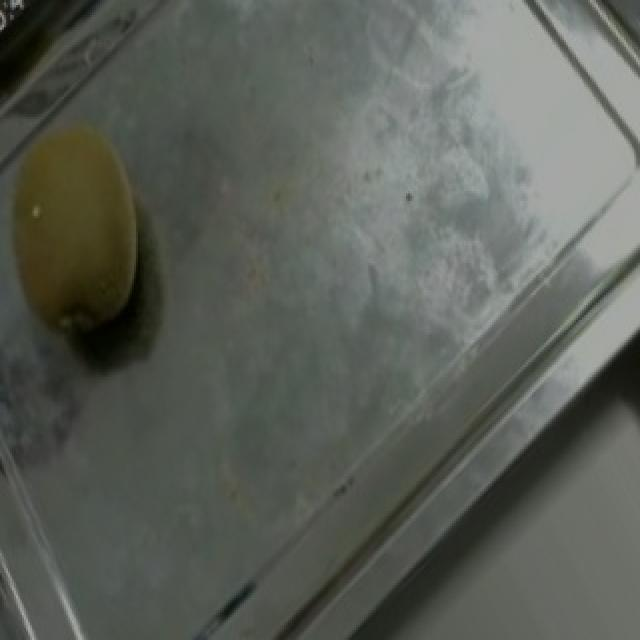Fruit: (0, 90, 184, 342)
